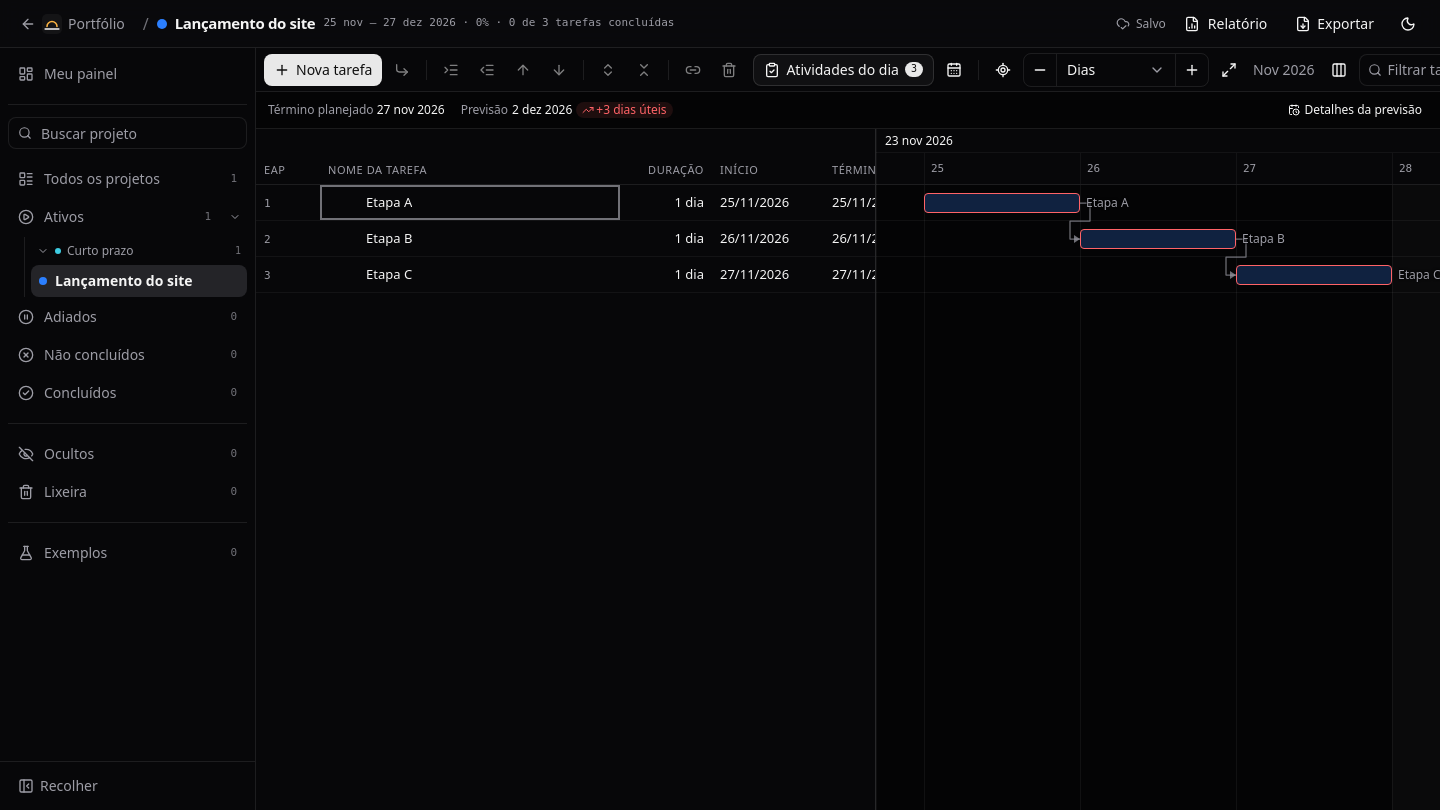
Scenario: finish forecast › shows the planned finish and a later forecast, explained by the late task
This screenshot has width=1440, height=810.
Check: the text "Término planejado 27 nov 2026" is shown, box x1=268 y1=102 x2=445 y2=118
Check: the text "+3 dias úteis" is shown, box x1=576 y1=102 x2=673 y2=118
Click the button "Detalhes da previsão": (1355, 110) x1=1282 y1=98 x2=1428 y2=122
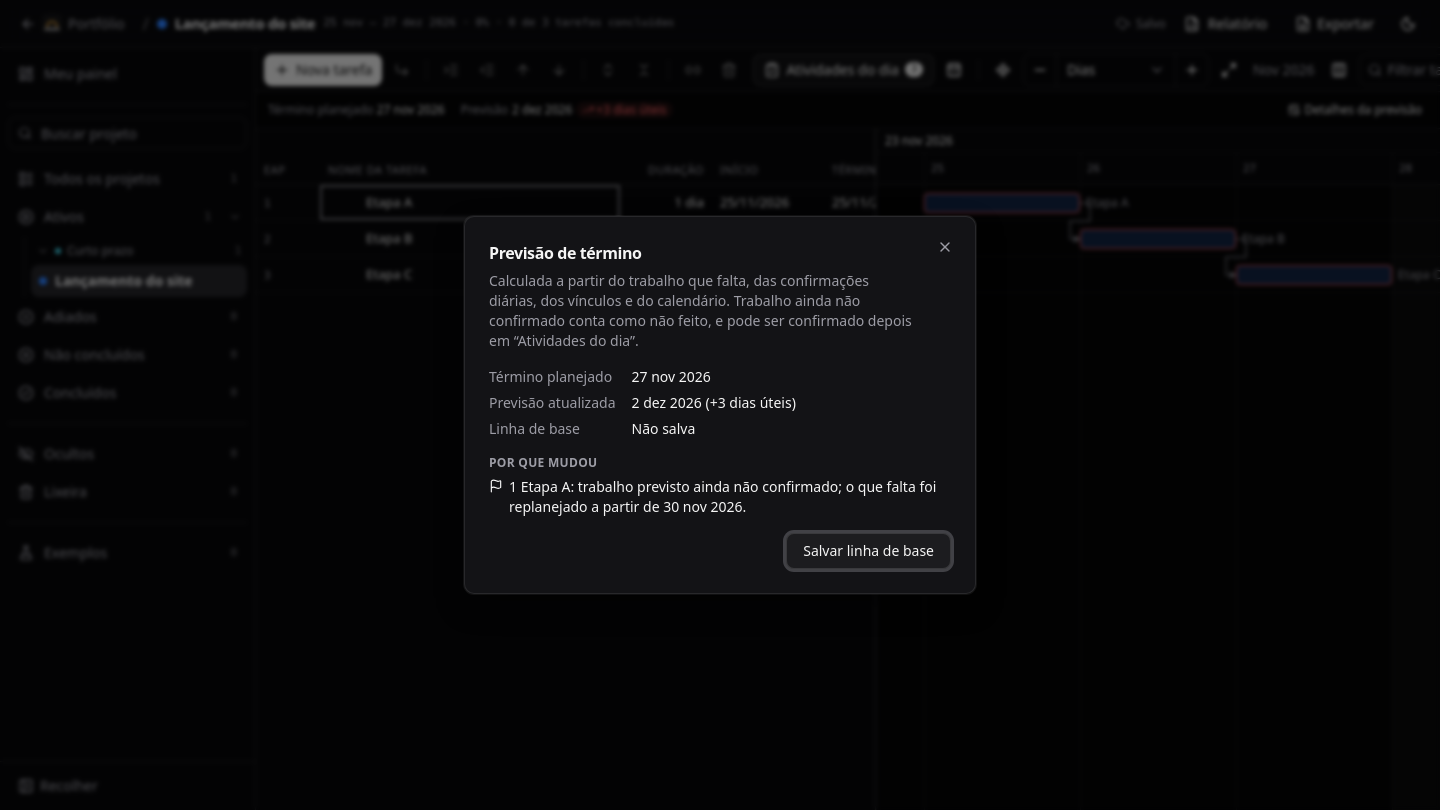
Check: the list item "1 Etapa A: trabalho previsto ainda não confirmado" is shown, box x1=509 y1=477 x2=936 y2=516
Check: the text "Não salva" is shown, box x1=632 y1=419 x2=695 y2=438
